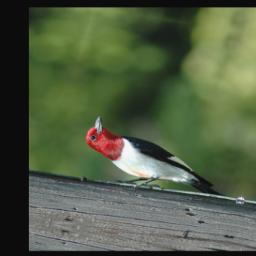Woodpecker: (70, 113, 248, 209)
